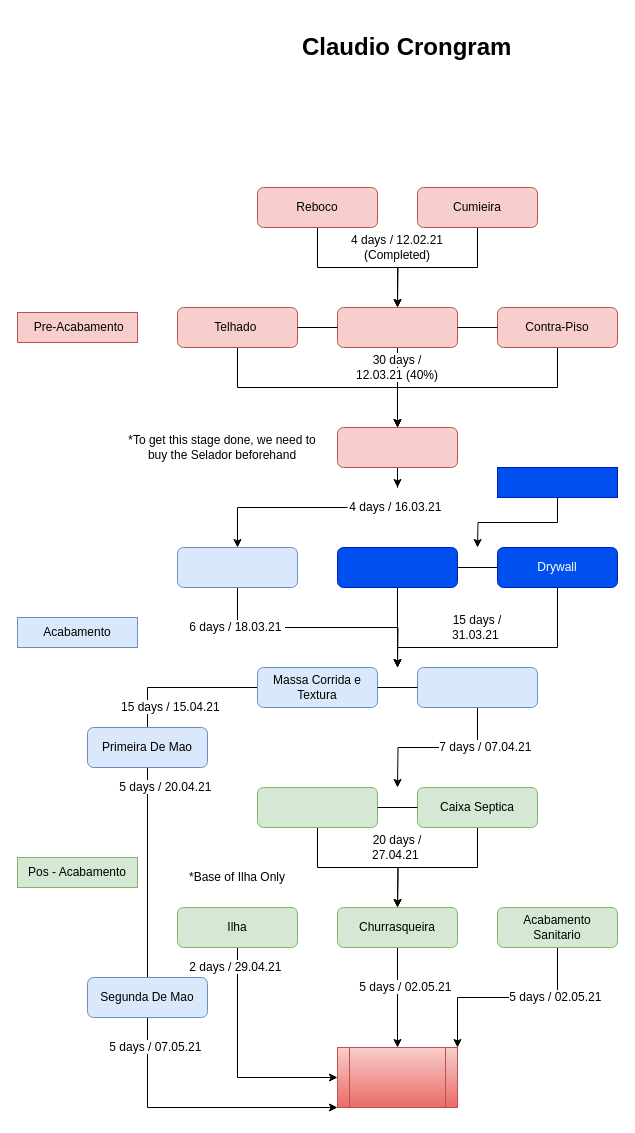
The diagram is 635 pixels wide and 1133 high, and some of its shapes have lost their labels. The shapes that lost their labels are listed below. From the top down, each one's box as (x1, y1, x2, y2) in pixels, then its label:
(336, 306, 458, 348): Reenquadramento
(336, 426, 458, 468): Selador
(496, 466, 618, 498): Claiton service
(176, 546, 298, 588): Azulejo
(336, 546, 458, 588): Forro do Gesso
(416, 666, 538, 708): Piso
(256, 786, 378, 828): Piscina
(336, 1046, 458, 1108): Claudio Pronto
